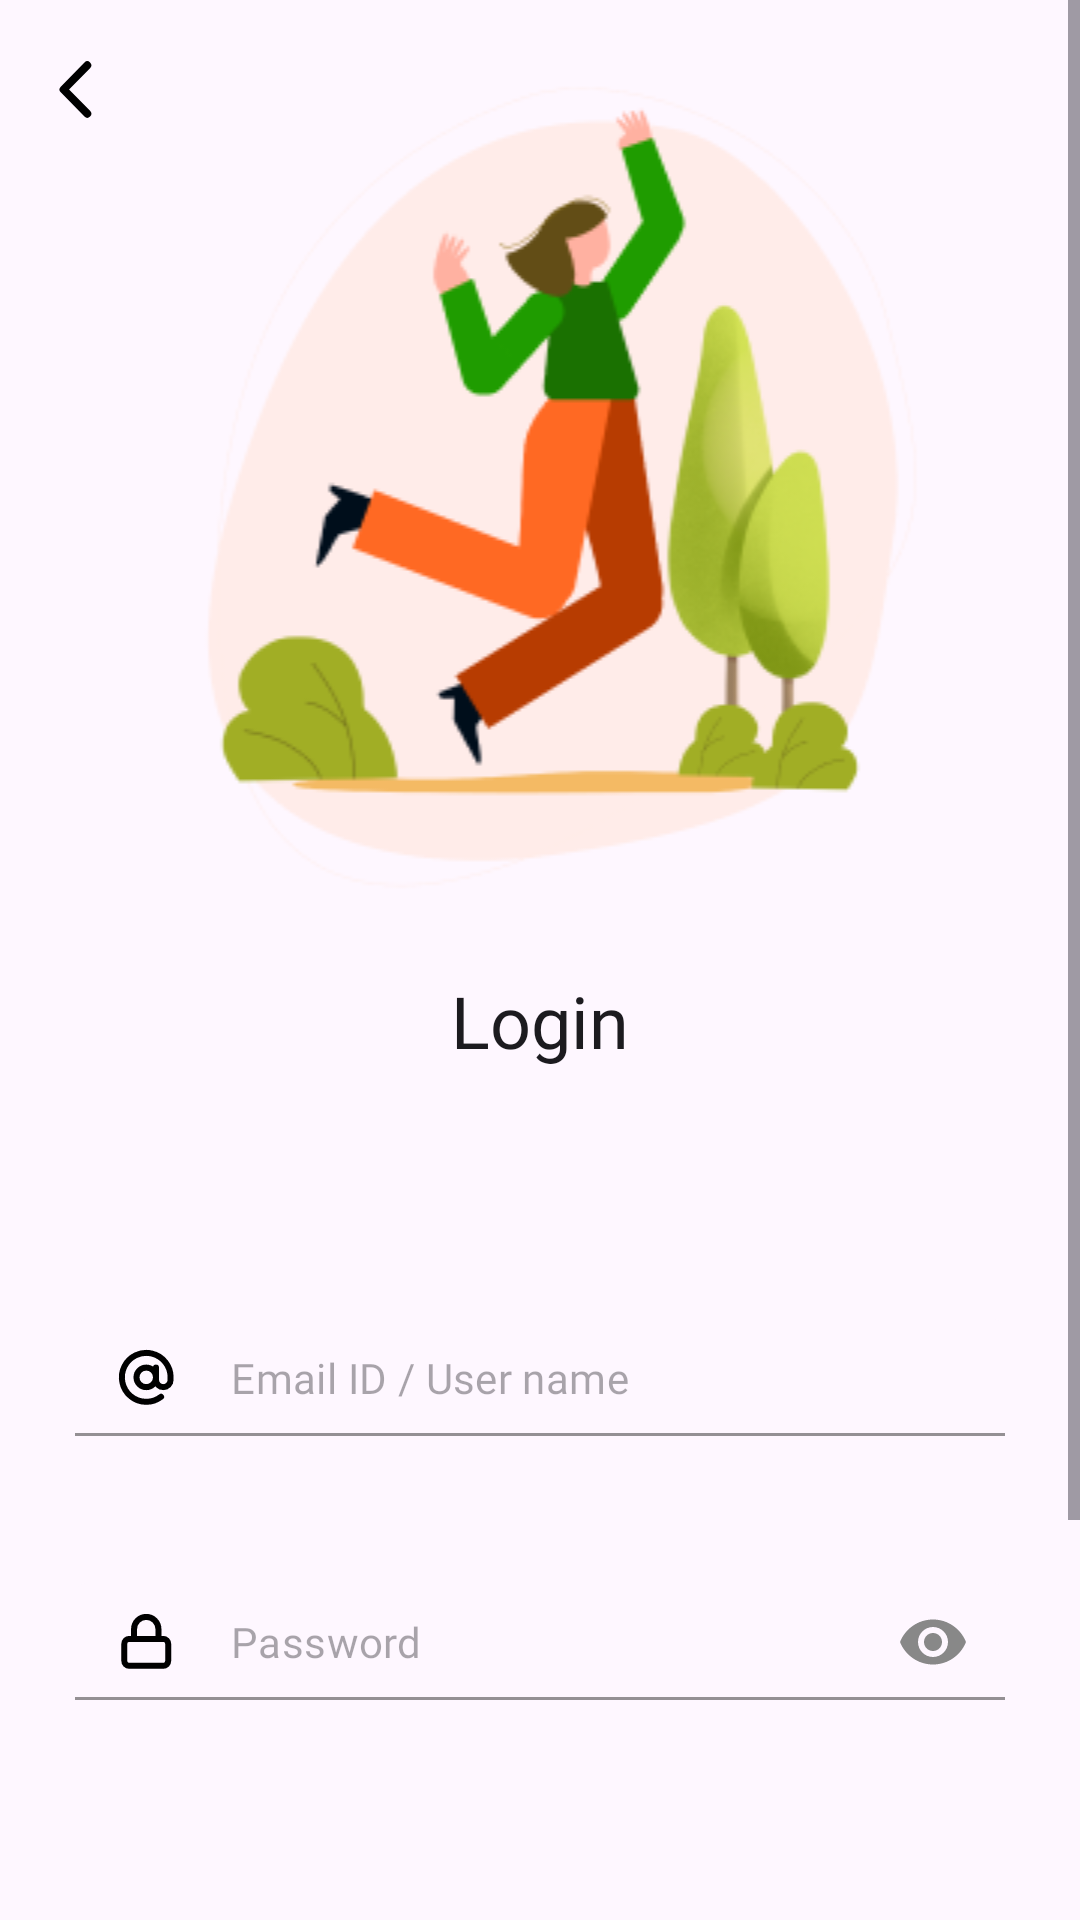

Named icons in this screenshot (1080px×1920px) and their centers, (x,y):
arrow: (75,89)
